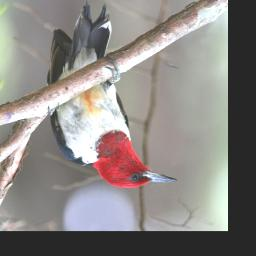Woodpecker: (47, 1, 178, 189)
